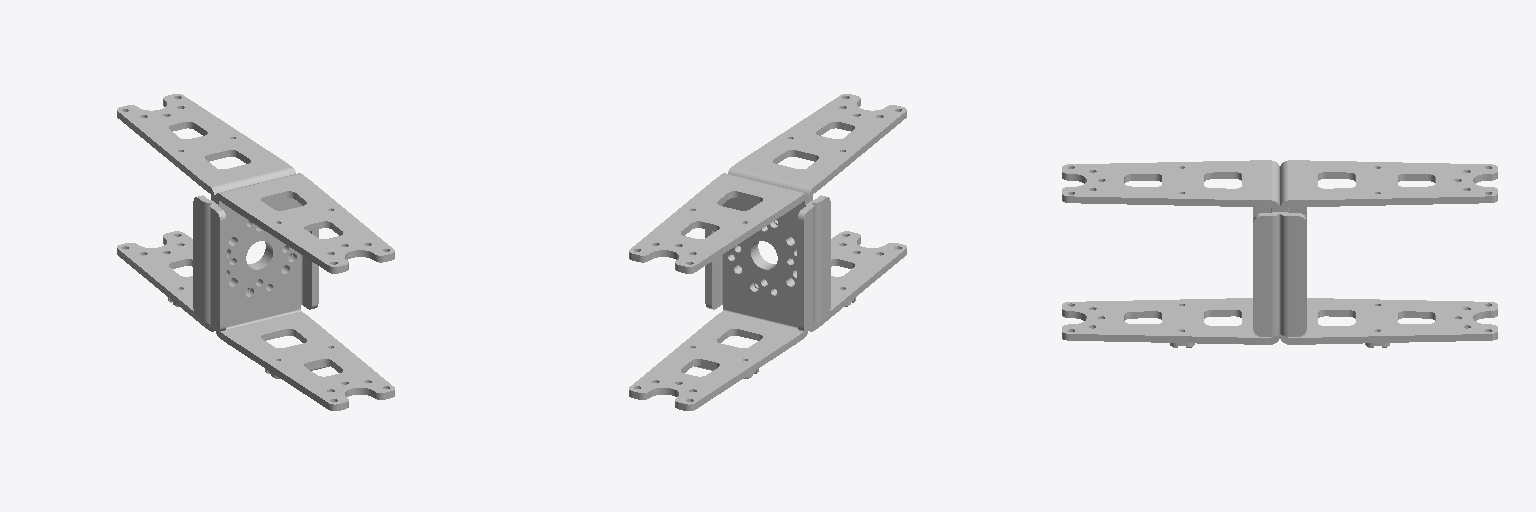
3 views of the same model, side by side, from view 1: azimuth 30°, elevation 25°; view 2: azimuth 150°, elevation 25°; view 3: azimuth 270°, elevation 25° (orthographic).
Parts seen in each view (by area): view 1: ll4; view 2: ll4; view 3: ll4.
Boxes of the visible parts, x1,y1,x2,y2 form: ll4: [117, 94, 394, 410]; ll4: [629, 94, 906, 410]; ll4: [1062, 160, 1497, 347].
Bounding box in the file's own units: 0.03 × 0.044 × 0.115.